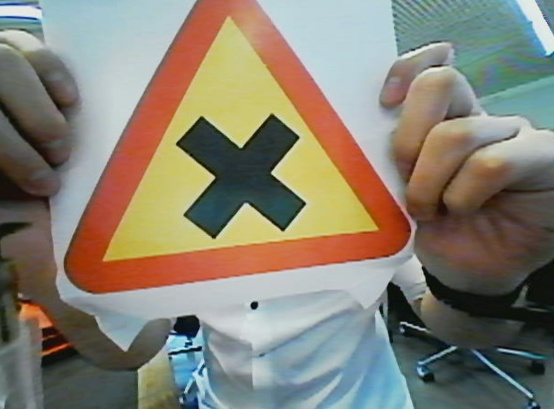junction: (68, 2, 404, 299)
